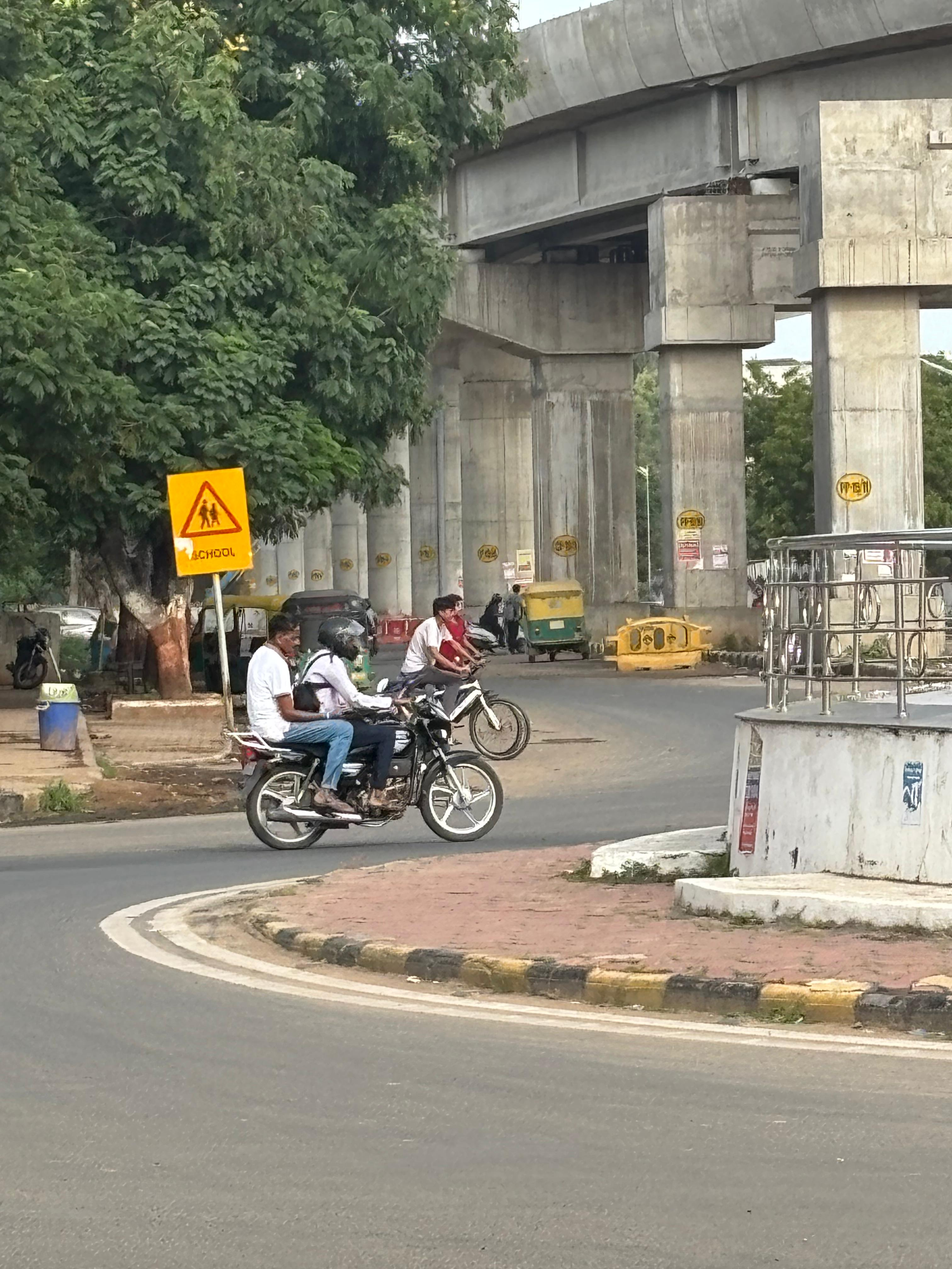BikeWithRider: (227, 607, 505, 844)
Helmet: (314, 615, 365, 667)
NoHelmet: (266, 613, 303, 658)
